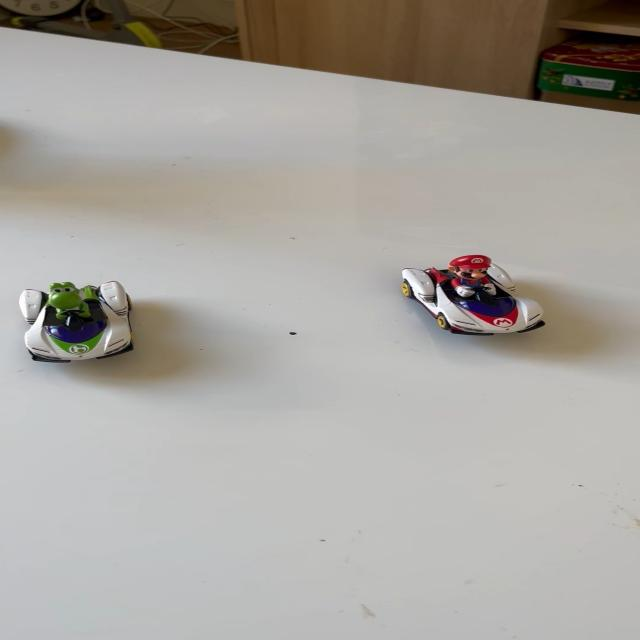mario: (395, 252, 563, 346)
yoshi: (15, 275, 154, 363)
